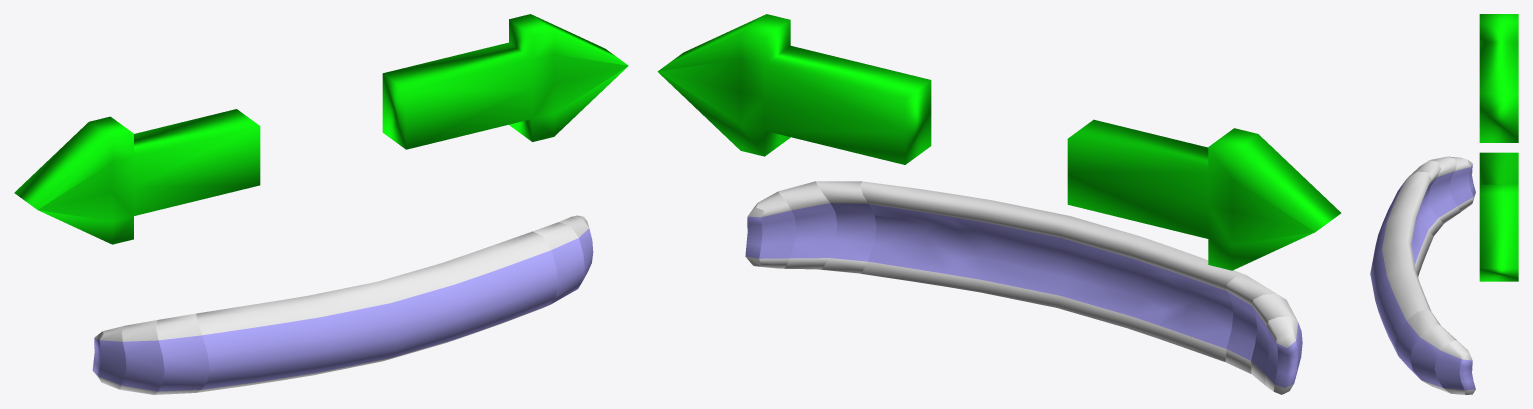
File: MakePaddleWider.fbx
The picture shows the model from 3 angles, left to right: view 1: azimuth 30°, elevation 25°; view 2: azimuth 150°, elevation 25°; view 3: azimuth 270°, elevation 25°; orthographic projection. The views are drawn at different scales.
Visible parts, largest first — view 1: Cube.066, Cube.068, Cube.072; view 2: Cube.066, Cube.072, Cube.068; view 3: Cube.066, Cube.068, Cube.072.
Boxes of the visible parts, x1,y1,x2,y2 form: Cube.066: [92, 215, 593, 394]; Cube.068: [382, 14, 628, 149]; Cube.072: [14, 109, 260, 244]; Cube.066: [745, 181, 1302, 394]; Cube.072: [1067, 119, 1341, 270]; Cube.068: [657, 14, 931, 164]; Cube.066: [1370, 156, 1475, 394]; Cube.068: [1479, 152, 1518, 281]; Cube.072: [1479, 14, 1518, 142].
Size of the model in its own units: 407 by 159 by 106.
